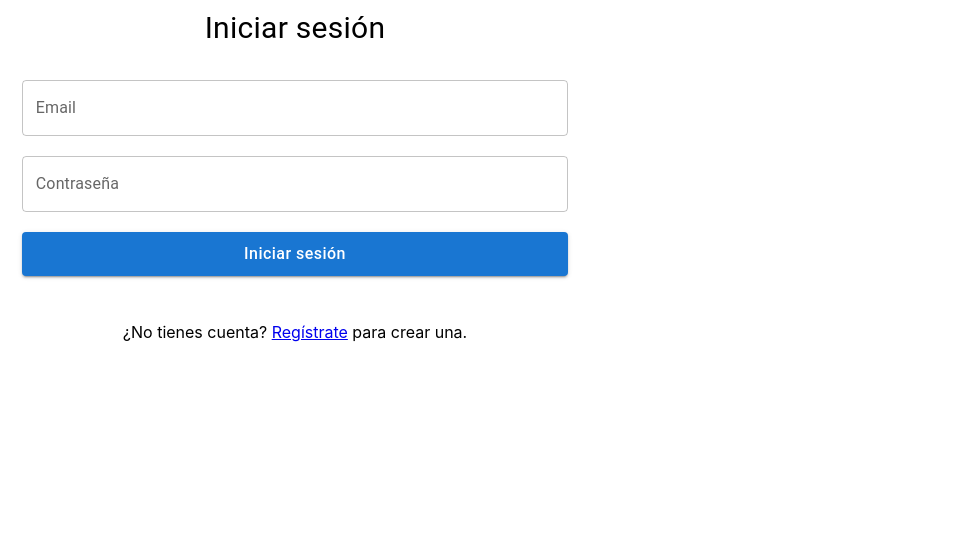
Integration test for Login/Register flow › should show a failed message if credentials are wrong
Type "fail@example.com" into the field named "email". click: (295,108)
box: 22,80 -> 568,136
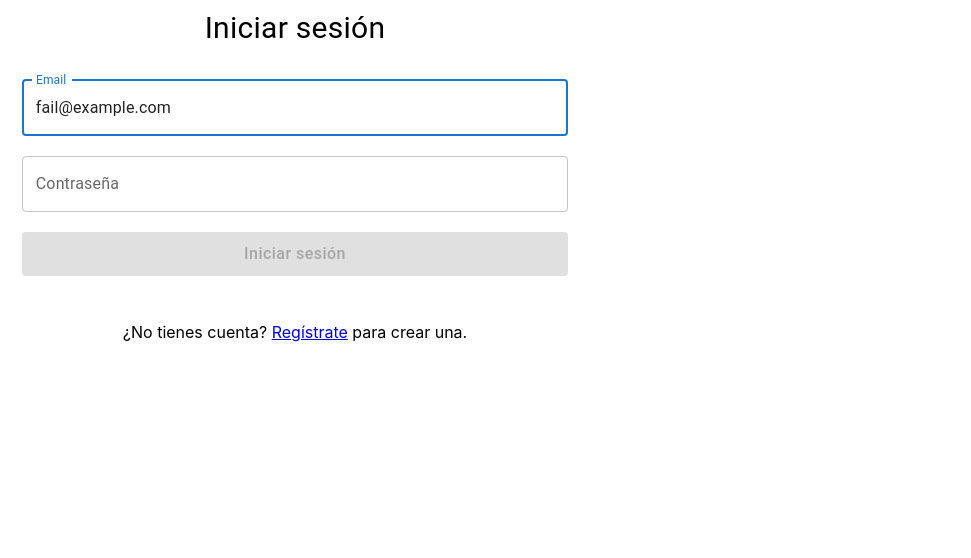
Type "Fail" into the password field named "password". click: (295,184)
box: 22,156 -> 568,212
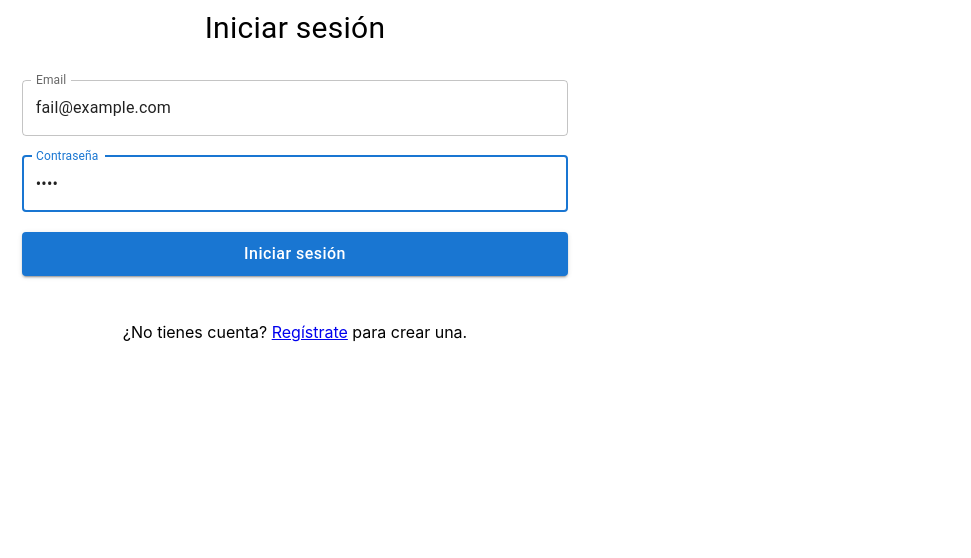
Click the submit button. click: (295,254)
box: 22,232 -> 568,276
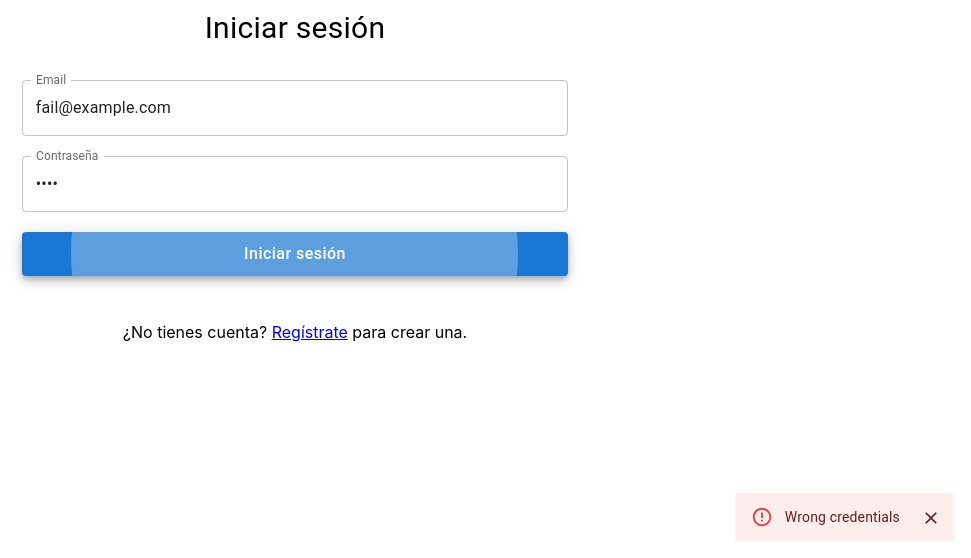
Now the text "Wrong credentials" is shown, box 785,509 -> 900,525
